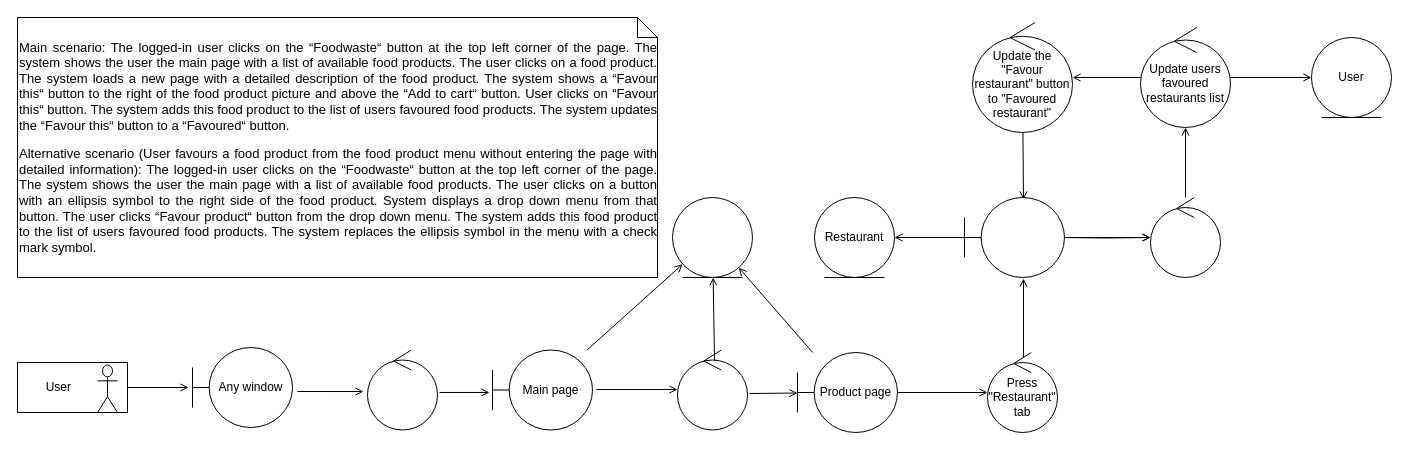
The diagram is 1409 pixels wide and 450 high, and some of its shapes have lost their labels. The shapes that lost their labels are listed below. From the top down, each one's box as (x1, y1, x2, y2) in pixels, then its label:
(672, 196, 752, 278): Food products
(964, 196, 1064, 278): Food product restaurant tab
(1150, 196, 1220, 278): Press "Favour restaurant" button
(366, 349, 438, 430): Press "Foodwaste" button
(676, 349, 748, 430): Select a food product
